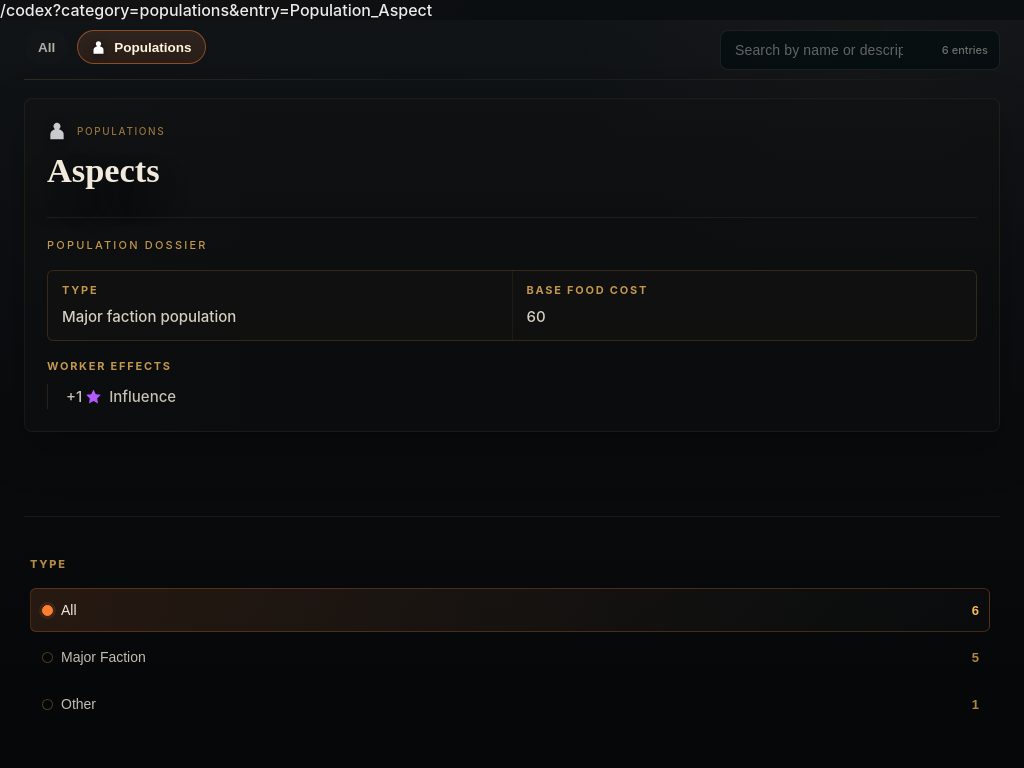
Test: CodexPage metadata overview and search rendering › filters Population rows by exported Type and returns detail routes to the archive
expect the heading "Aspects" is shown: met, box [47,151,160,189]
expect the button "Major Faction 5" is shown: met, box [30,635,990,679]
Click the button "Other 1" at (79, 704), box [30,682,990,726]
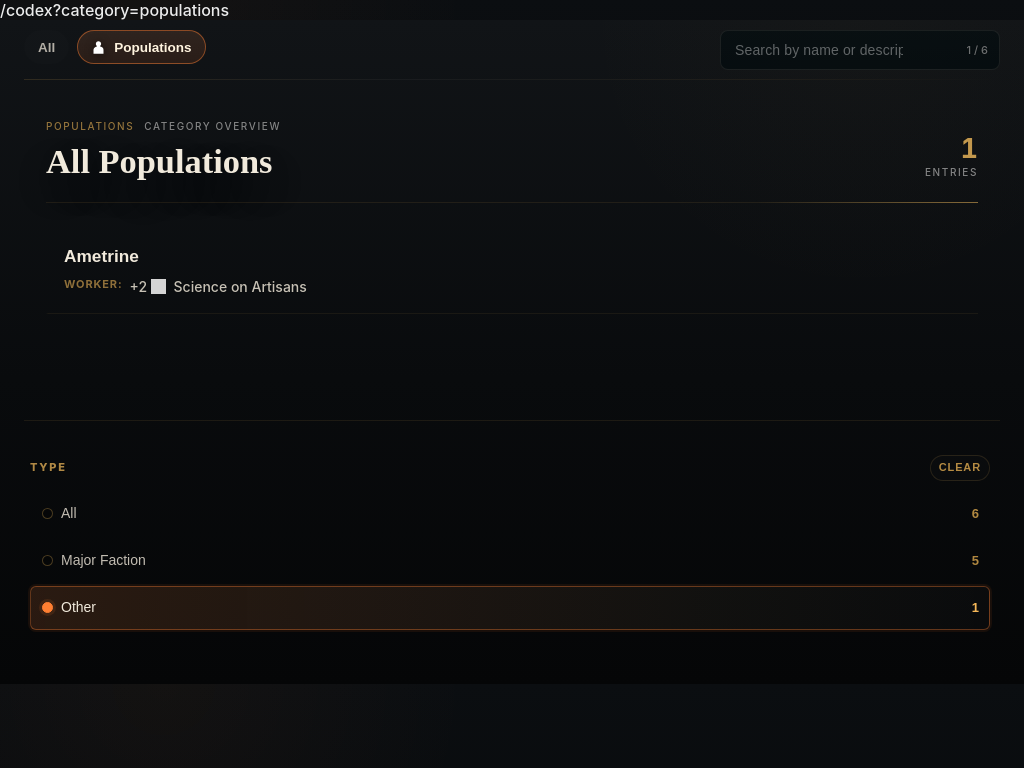
expect the heading "All Populations" is shown: met, box [46,144,272,178]
expect the button "Ametrine" is shown: met, box [64,245,139,269]
expect the text "Aspects" is gone: met
Click the button "Other 1" at (79, 607), box [30,586,990,630]
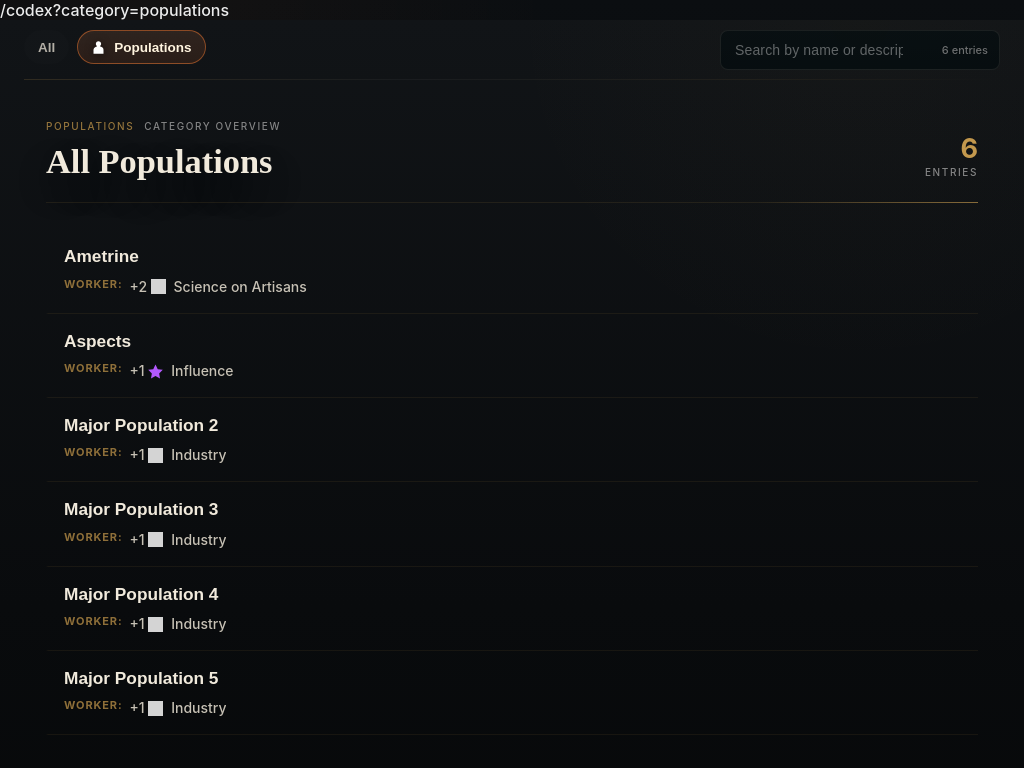
expect the button "Aspects" is shown: met, box [64,330,131,353]
Type "science" into the dropdown named "search the encyclopedia" at (860, 50), box [720,30,1000,70]
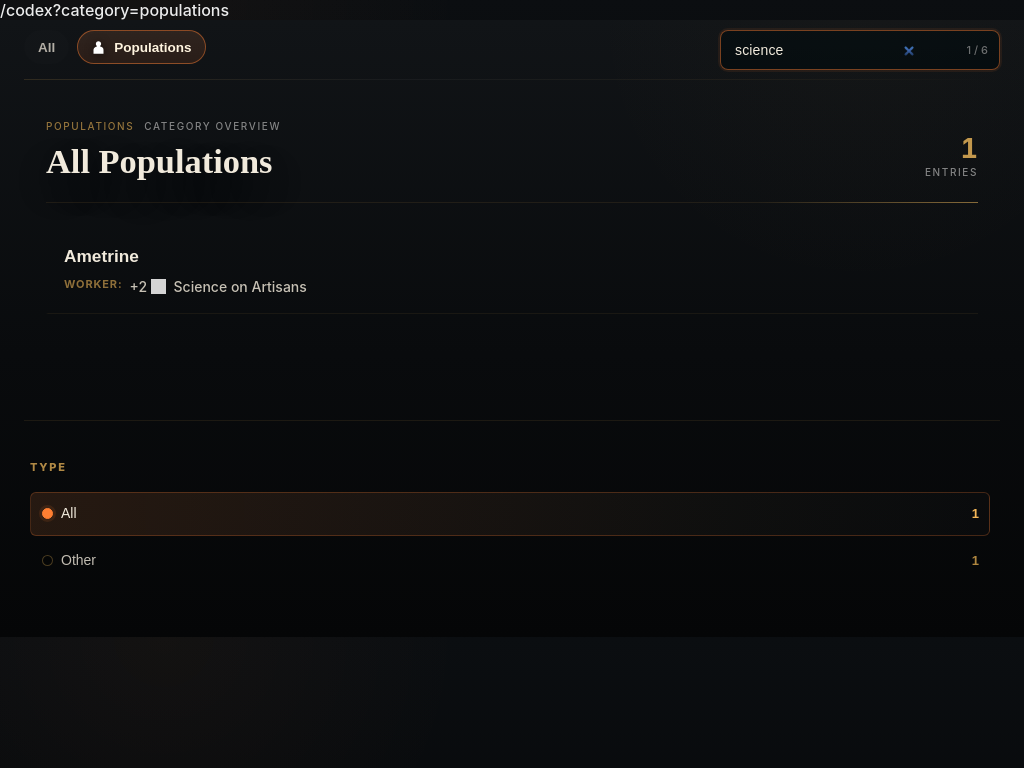
expect the button "Ametrine" is shown: met, box [64,245,139,269]
expect the button "Aspects" is gone: met
